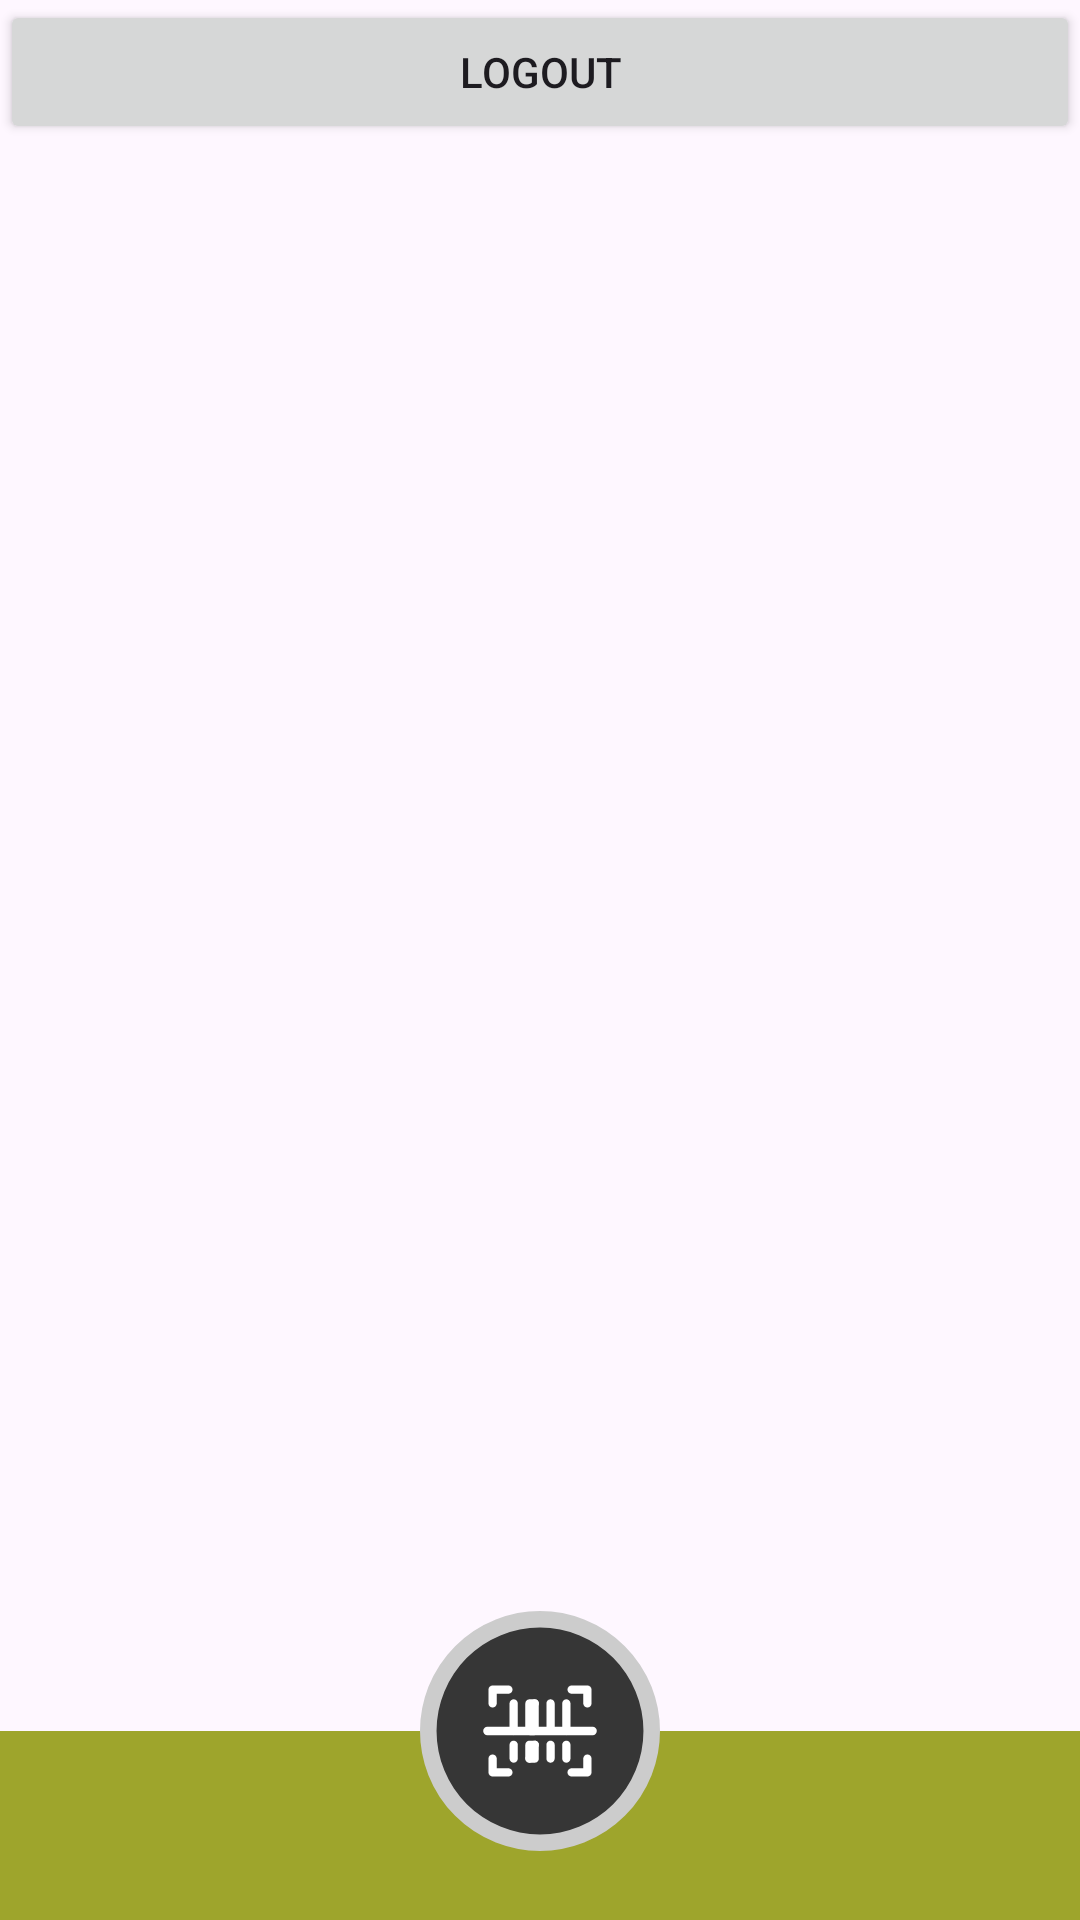

Icon click points for this 1080×1920 phone screenshot, format point (x, y):
scan qr: point (540, 1731)
